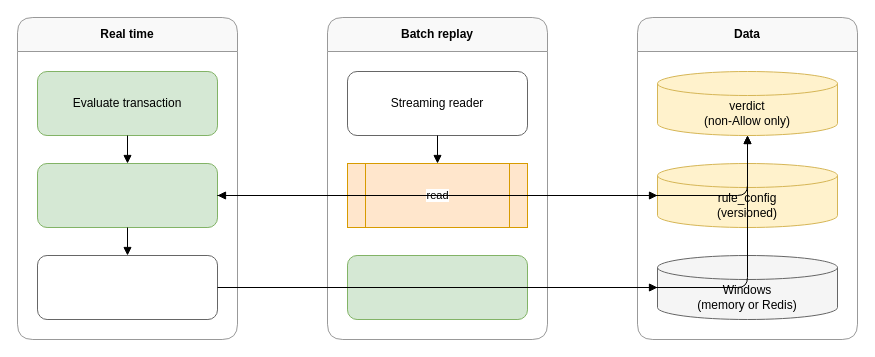
Image size: 875x357. Some labels were removed from this diagram. The centre of each missing label's shape, as x and y in pixels:
Account state sliding windows: the point at 127,287
Partition by account N ordered workers: the point at 437,195
Rule engine verdict + reasons: the point at 127,195
Rule performance precision · recall: the point at 437,287
